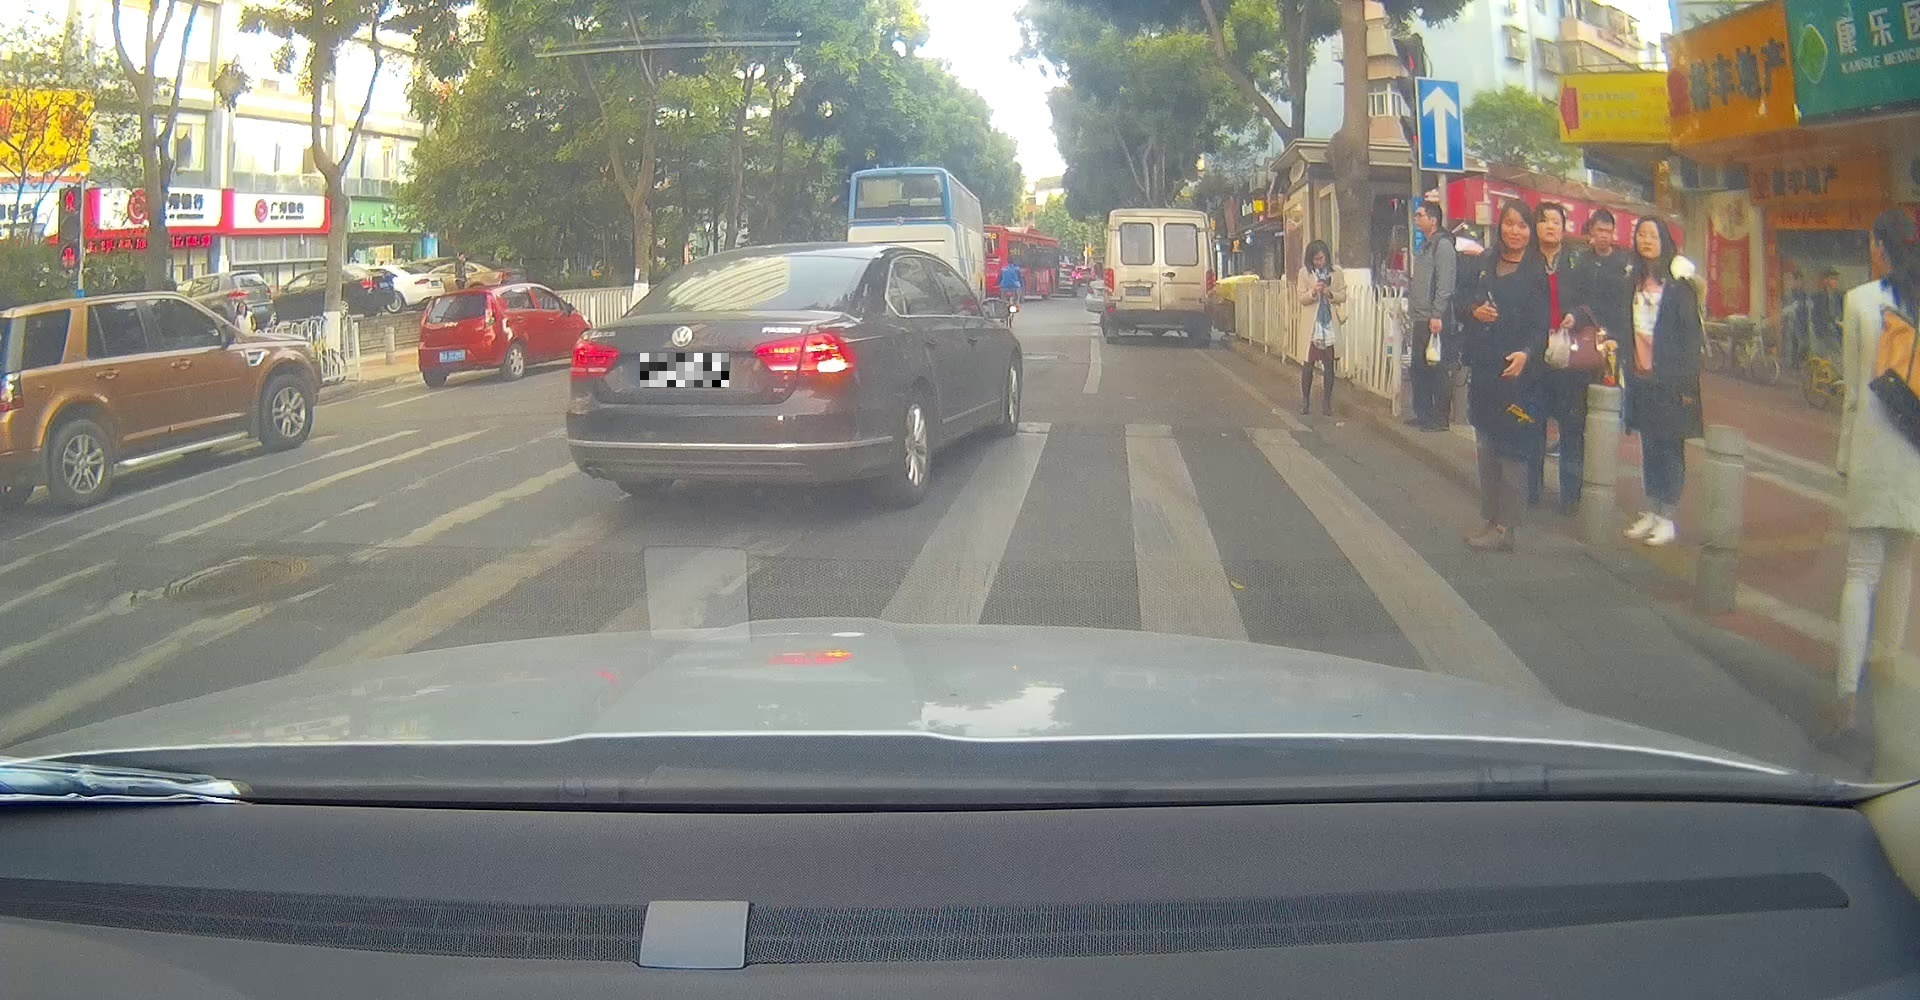L_light: (570, 338, 621, 379), (1103, 268, 1114, 293), (420, 324, 430, 338)
R_light: (750, 330, 855, 377), (474, 316, 497, 330), (1205, 269, 1217, 292)
T_light: (706, 299, 756, 313), (1150, 211, 1168, 217), (450, 289, 465, 296)
day-no: (1102, 207, 1217, 348), (417, 288, 499, 388)
day-right: (569, 241, 883, 506)
plate_1: (640, 353, 729, 387)
